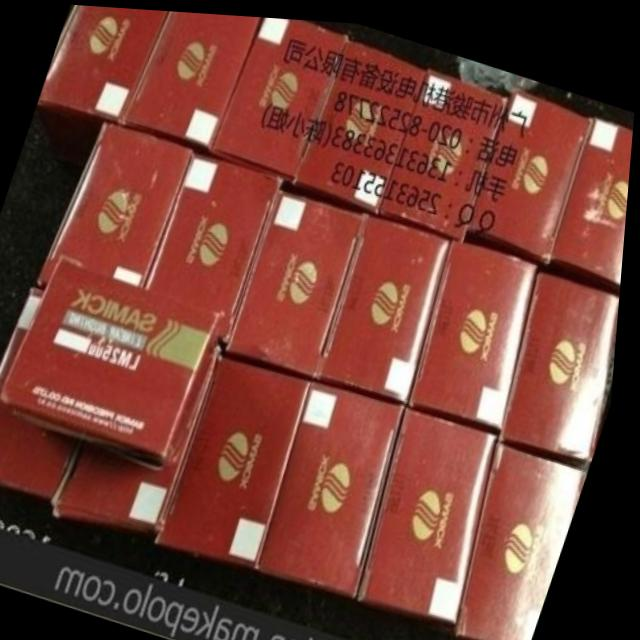box: (4, 257, 229, 464), (61, 341, 227, 534), (164, 355, 317, 564), (266, 374, 410, 593), (366, 402, 504, 617), (40, 117, 195, 289), (229, 185, 368, 374), (148, 148, 286, 338), (467, 433, 591, 640), (322, 208, 452, 397), (414, 233, 542, 421), (38, 4, 168, 186), (294, 34, 427, 210), (506, 263, 624, 460), (381, 63, 510, 234), (213, 14, 348, 175), (471, 81, 592, 260), (123, 9, 261, 147), (0, 284, 85, 502), (551, 111, 634, 287)
